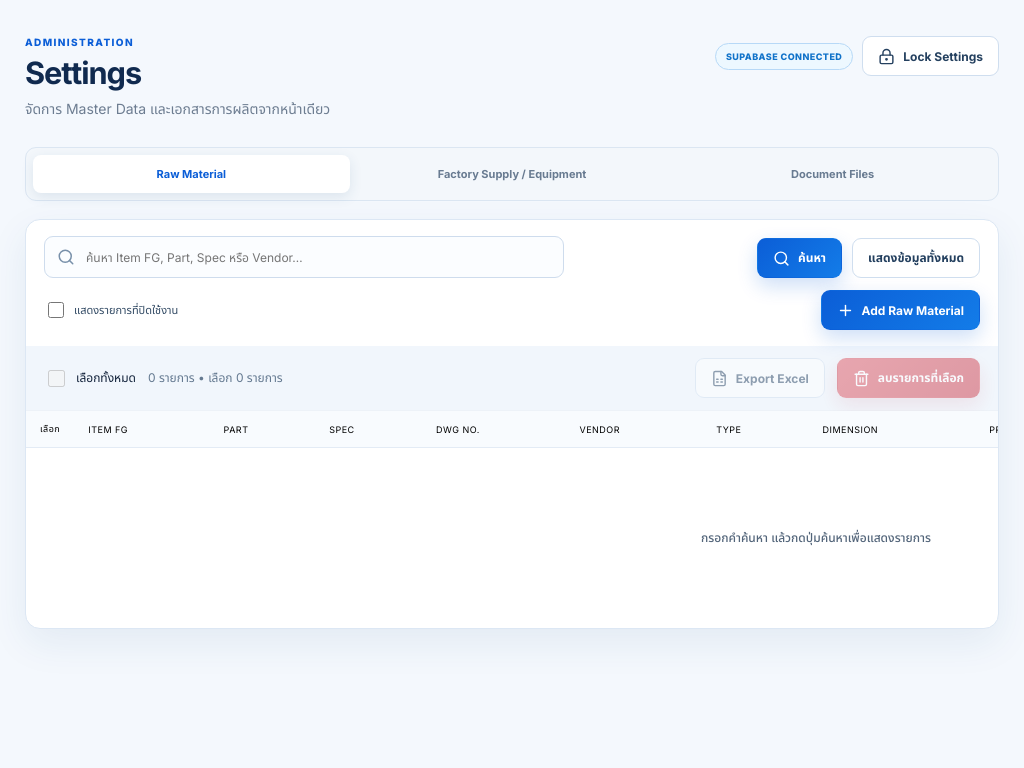
Settings document search › confirms bulk deletion and retains only failed rows selected
Click the button "แสดงข้อมูลทั้งหมด".
click(916, 258)  # box top-left (852, 238), bottom-right (980, 278)
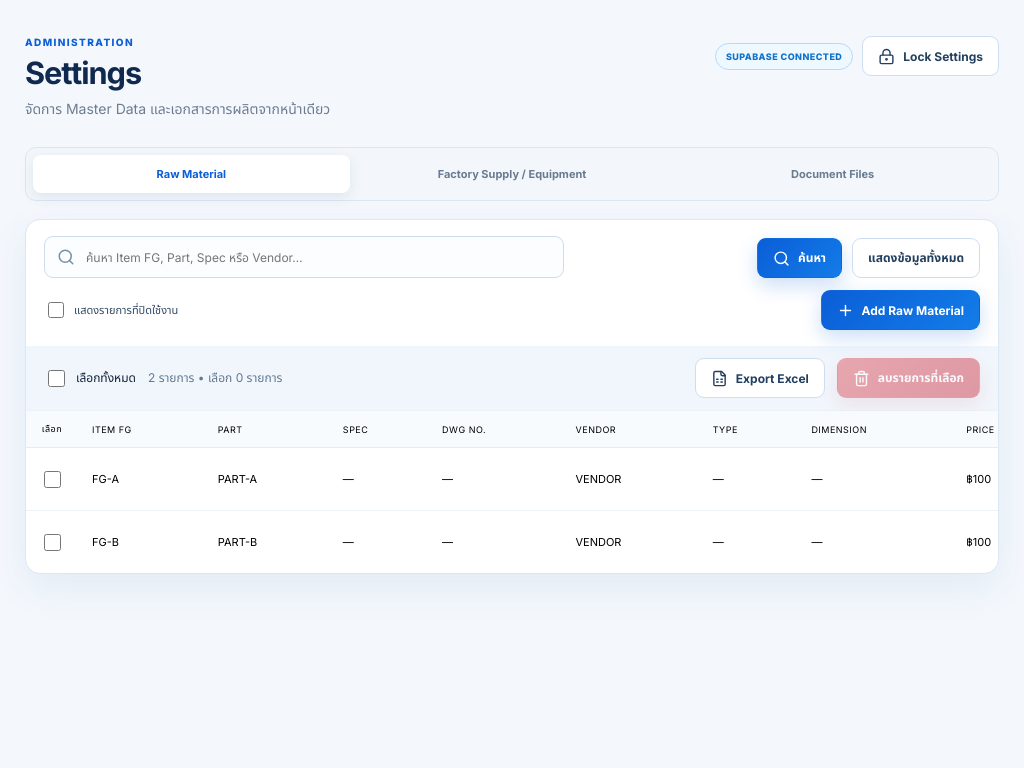
Expected: the text "PART-A" is shown, top-left (204, 448), bottom-right (329, 511)
Click the checkbox labelled "เลือกทั้งหมด".
click(56, 378)  # box top-left (48, 370), bottom-right (65, 387)
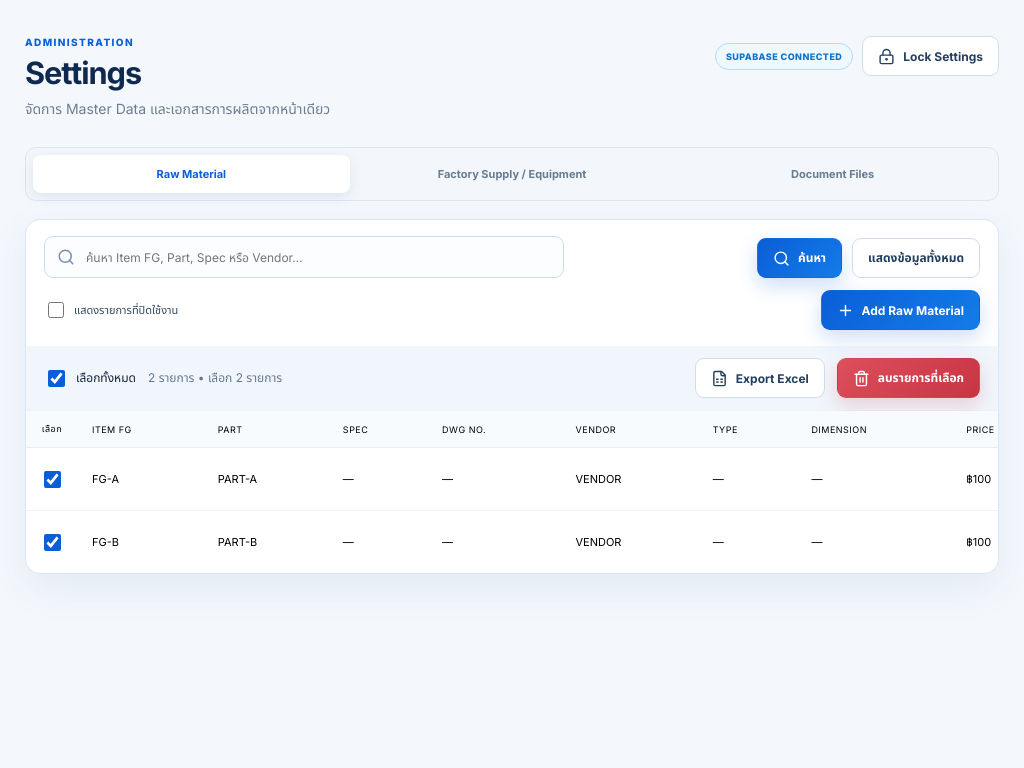
Click the button "ลบรายการที่เลือก".
click(908, 378)  # box top-left (837, 358), bottom-right (980, 398)
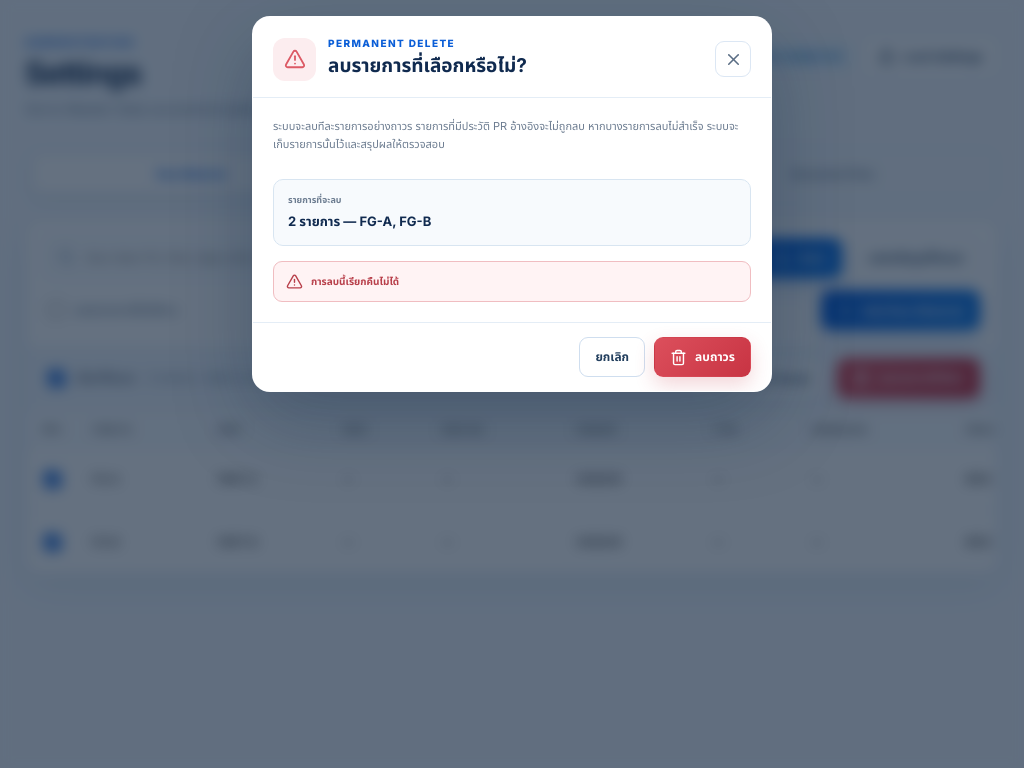
Expected: the dialog "ลบรายการที่เลือกหรือไม่?" is shown, top-left (252, 16), bottom-right (772, 392)
Click the button "ยกเลิก".
click(612, 357)  # box top-left (579, 337), bottom-right (645, 377)
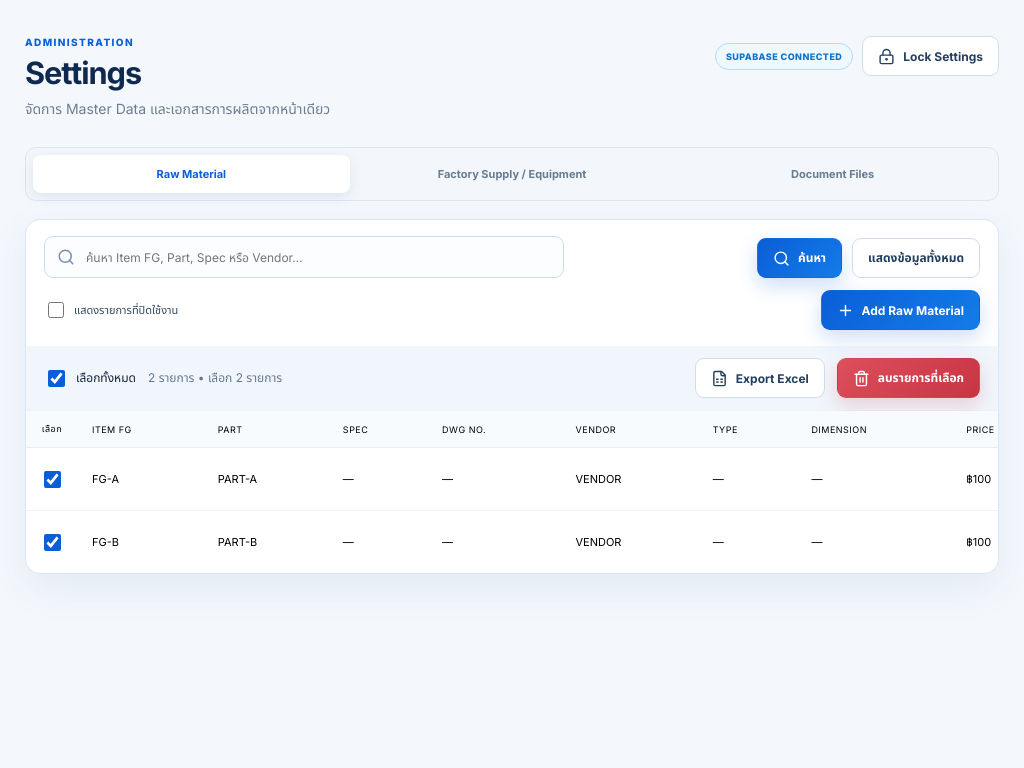
Click the button "ลบรายการที่เลือก".
click(908, 378)  # box top-left (837, 358), bottom-right (980, 398)
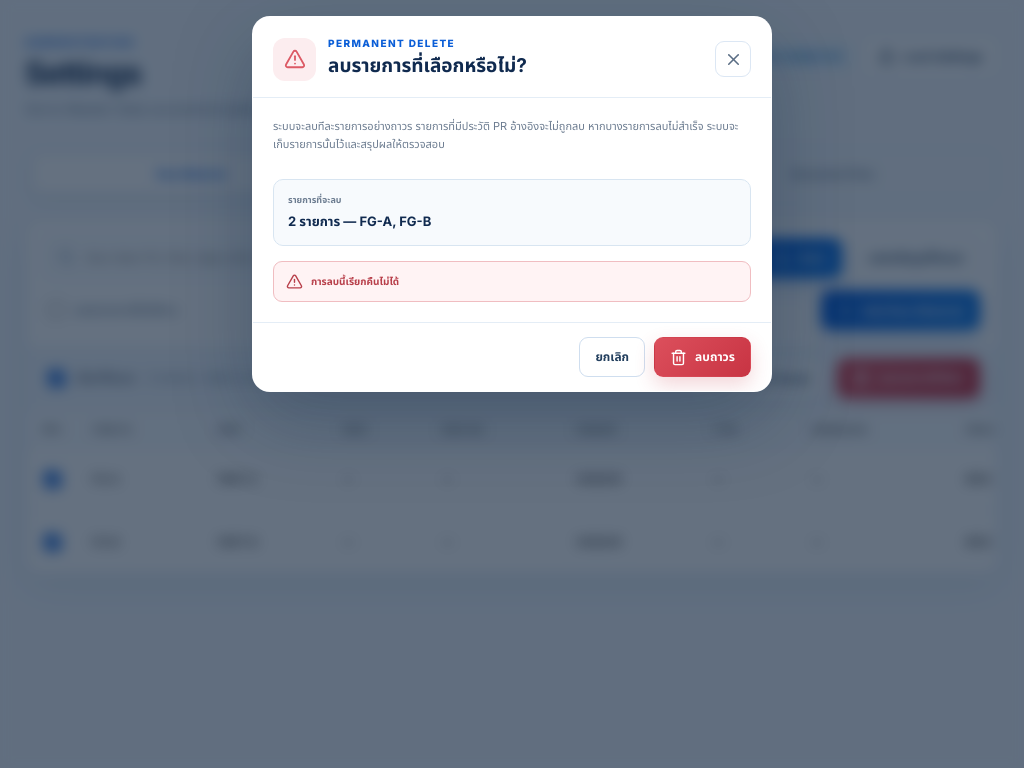
Click the button "ลบถาวร".
click(703, 357)  # box top-left (654, 337), bottom-right (751, 377)
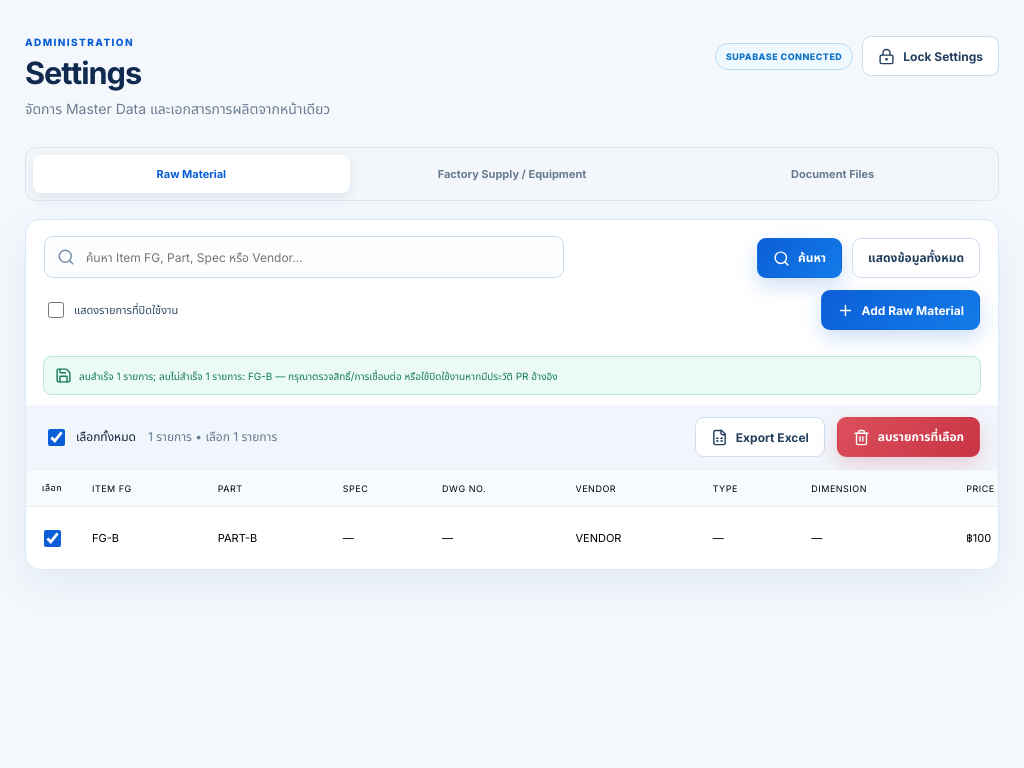
Expected: the checkbox named "เลือก FG-B" is checked, top-left (44, 530), bottom-right (61, 547)
Expected: the text "ลบสำเร็จ 1 รายการ; ลบไม่สำเร็จ 1 รายการ" is shown, top-left (79, 370), bottom-right (558, 382)
Expected: the text "PART-A" is gone
